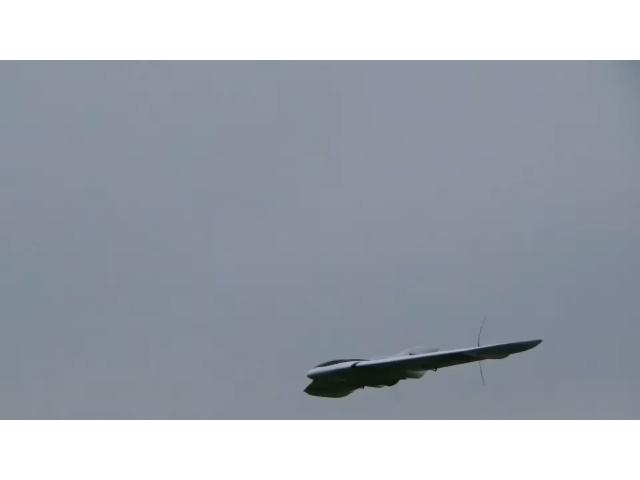Anti-Drone: (305, 341, 541, 397)
